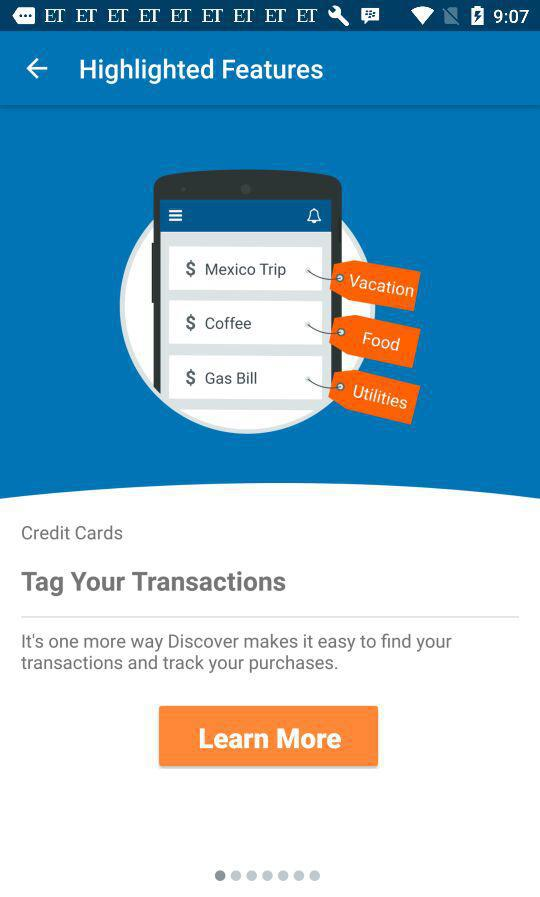Icon: (27, 58, 49, 80)
Image: (118, 170, 421, 434)
PageIndicator: (215, 869, 321, 882)
Text: (21, 632, 453, 673), (80, 57, 324, 86), (21, 571, 287, 597), (22, 524, 124, 541)
TextButton: (159, 705, 379, 769)
Toolbar: (1, 32, 540, 107)
UpperTaskBar: (1, 1, 540, 33)
